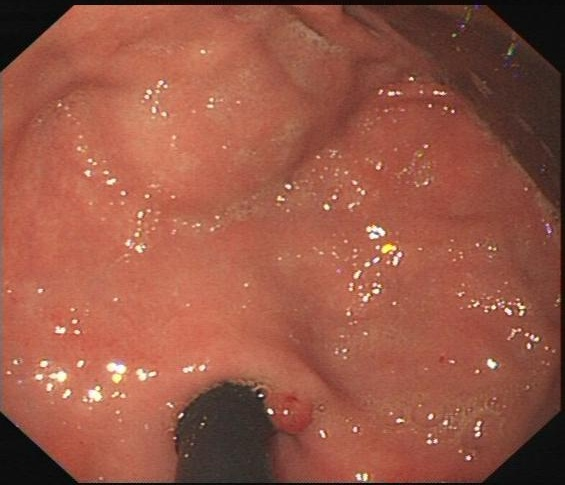Polyp: (252, 368, 327, 448)
